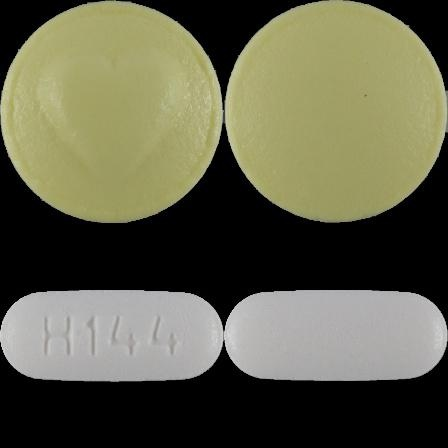0615-8058: (0, 0, 224, 224)
